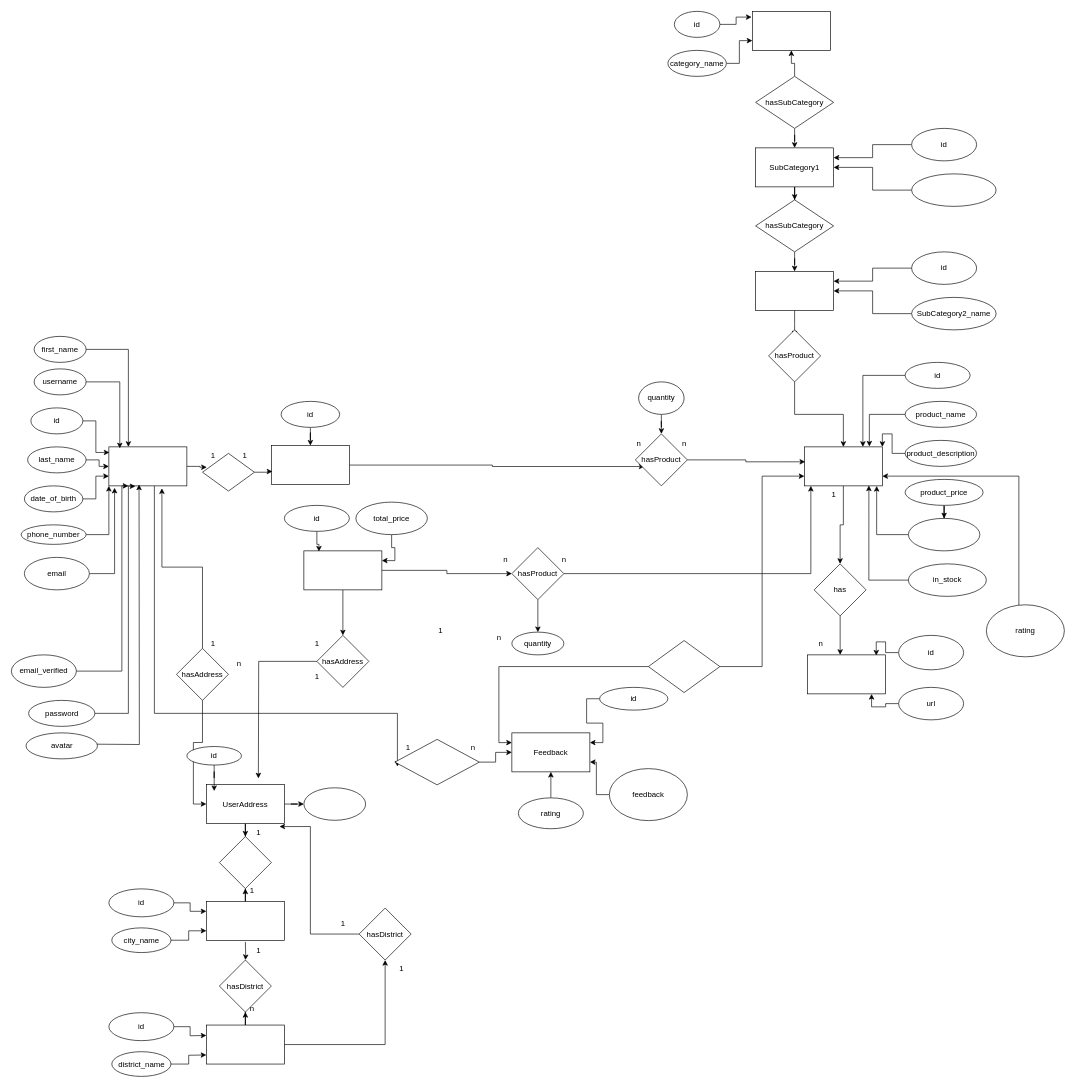
Some shapes in this 1076 by 1088 pixel diagram are drawn without their labels. Each missing label, with the box of its shape:
address_in_text: (303, 787, 366, 820)
Cart: (271, 445, 349, 485)
Category: (752, 11, 830, 50)
City/ Province: (206, 901, 284, 941)
District: (206, 1024, 284, 1064)
hasCart: (202, 453, 254, 491)
hasCity: (219, 836, 271, 889)
hasFeedback: (648, 640, 720, 693)
makeFeedback: (394, 739, 479, 785)
Orders: (303, 550, 382, 590)
ProductImages: (807, 654, 886, 694)
Products: (804, 446, 882, 486)
SubCategory1_name: (911, 173, 996, 206)
SubCategory2: (755, 271, 834, 310)
total_sales: (908, 518, 980, 551)
User: (108, 446, 187, 486)
